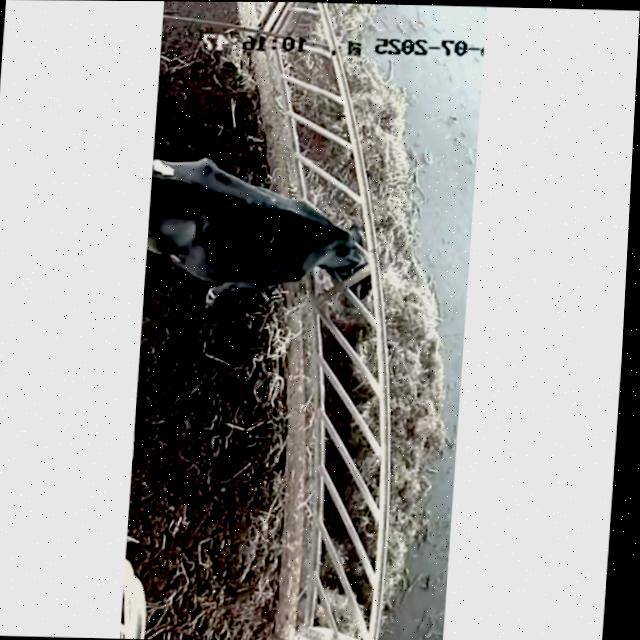eat: (230, 180, 422, 304)
